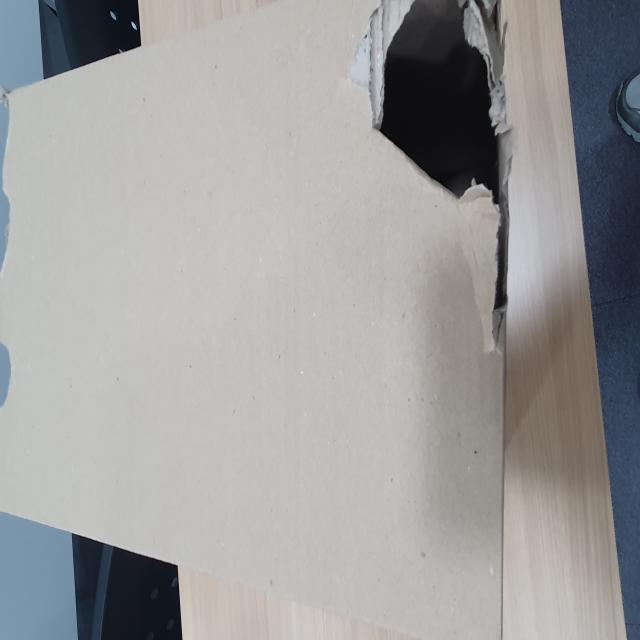hole: (369, 6, 510, 360)
